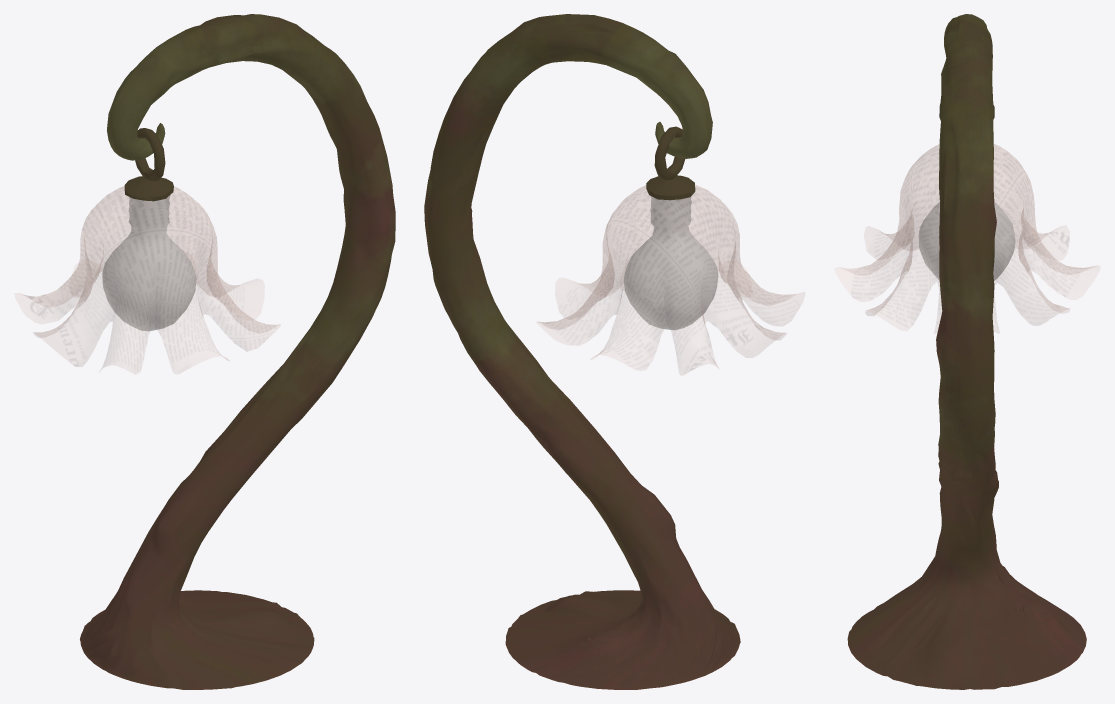
Rendered from floor_lamp_arc.glb.
The picture shows the model from 3 angles, left to right: view 1: azimuth 30°, elevation 25°; view 2: azimuth 150°, elevation 25°; view 3: azimuth 270°, elevation 25°; orthographic projection.
Size of the model in its own units: 1.13 by 1.86 by 0.7216.
3 materials, 3 textured.
